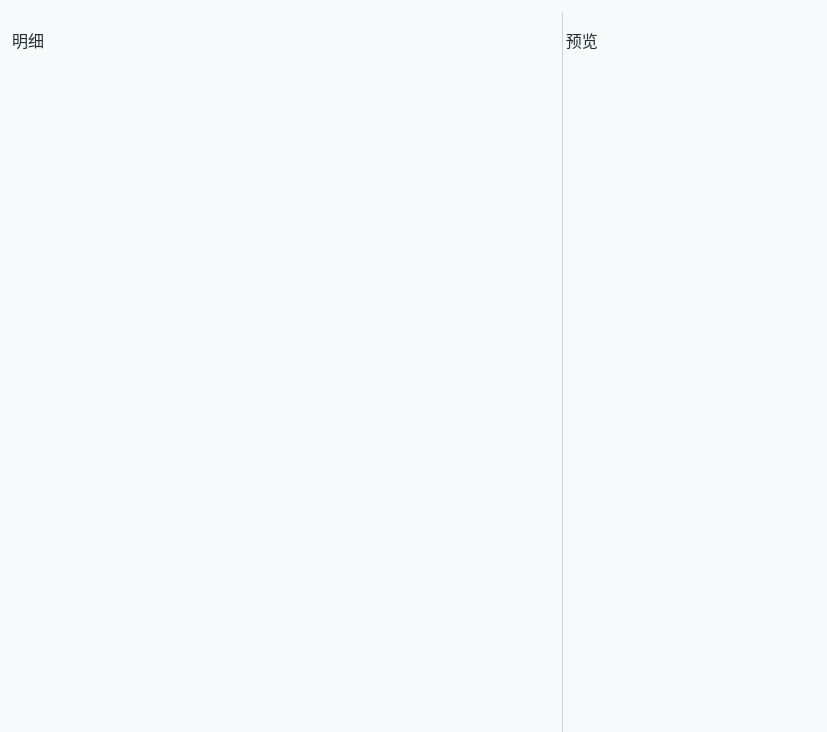
Test case: 双击与菜单重置恢复默认值，存储损坏时仍可操作
Press End in the element named "测试分隔线", box [560,12,566,731]
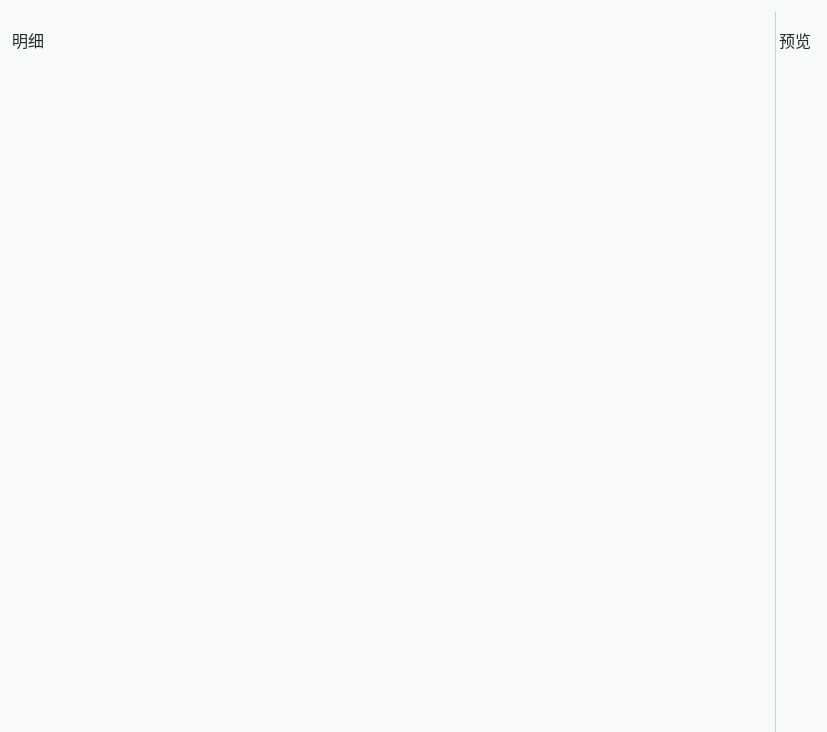
Double-click the element named "测试分隔线" at (776, 372), box [773,12,779,731]
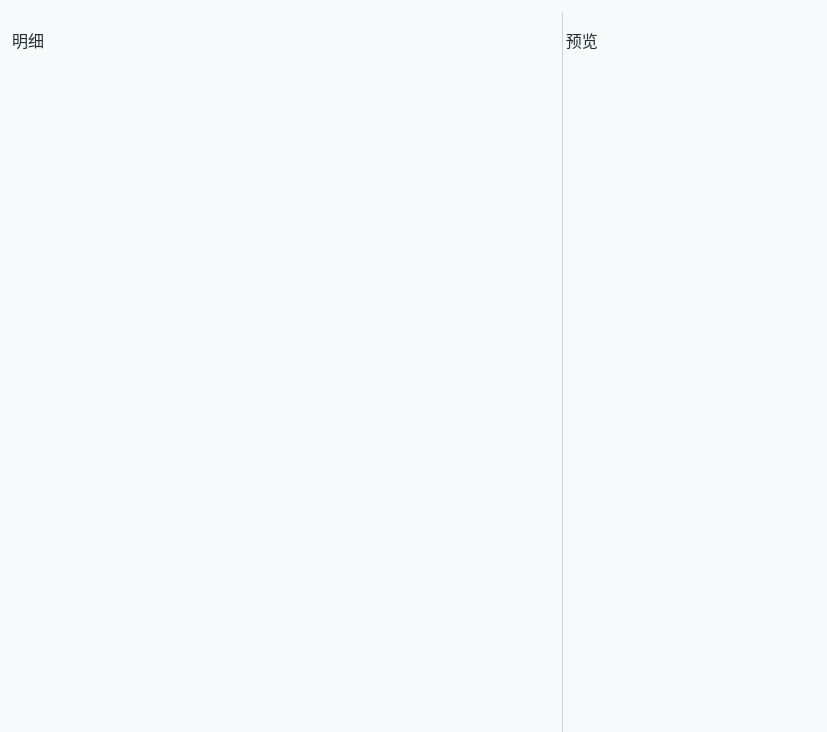
Expected: the element named "测试分隔线" has attribute aria-valuenow="43"
Press End in the element named "测试分隔线", box [560,12,566,731]
Expected: the element named "测试分隔线" has attribute aria-valuenow="43", [560,12,566,731]
